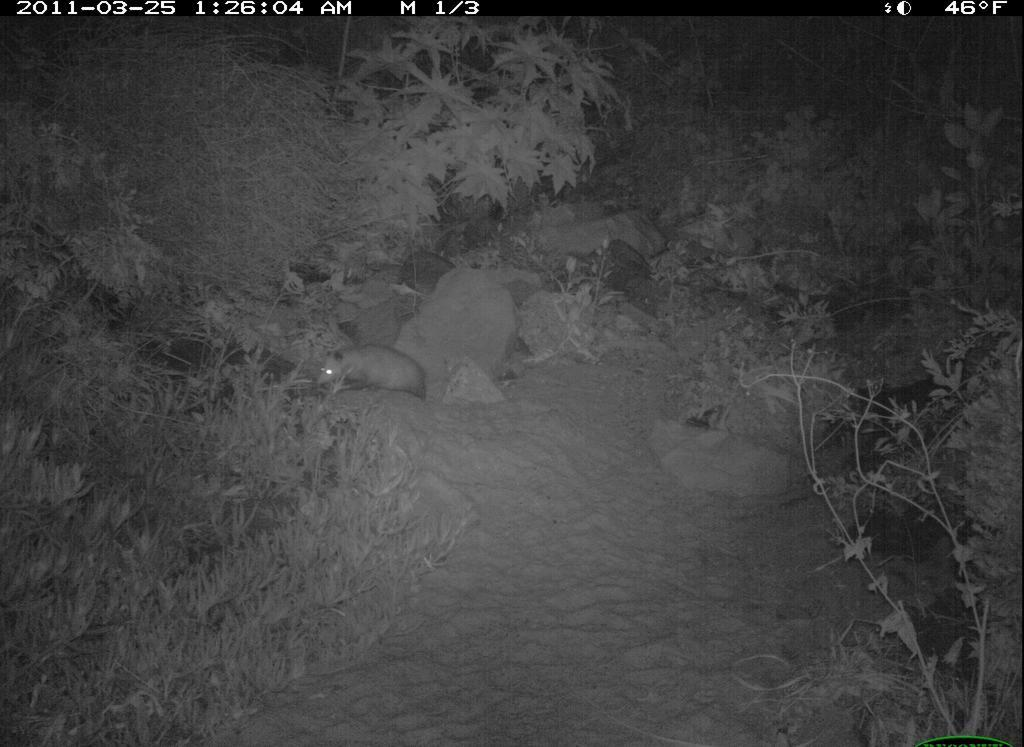opossum: (315, 344, 436, 404)
